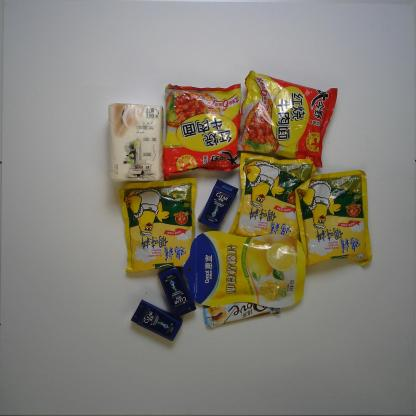Chocolate: (202, 288, 284, 328)
Dried Fruit: (182, 230, 306, 309)
Instant Noodles: (236, 69, 335, 168), (162, 83, 245, 181)
Personal Hygiene: (130, 298, 184, 342), (196, 178, 238, 230), (158, 266, 198, 319)
Seasoner: (115, 169, 197, 276), (227, 152, 318, 246), (292, 168, 373, 270)
Tissue: (107, 102, 164, 184)
